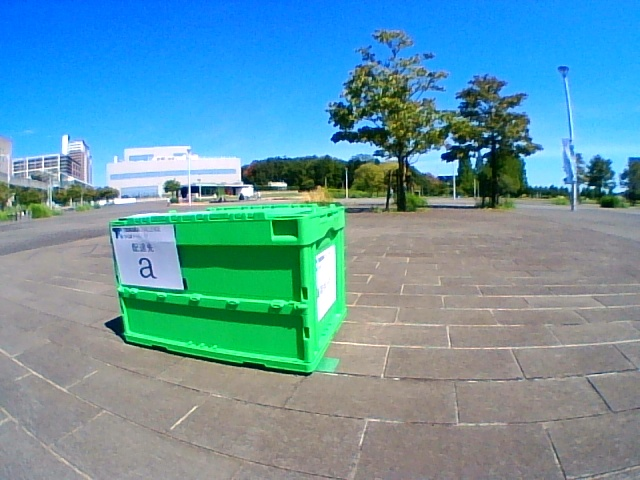green_box: (109, 204, 346, 374)
tag_a: (120, 230, 175, 285)
